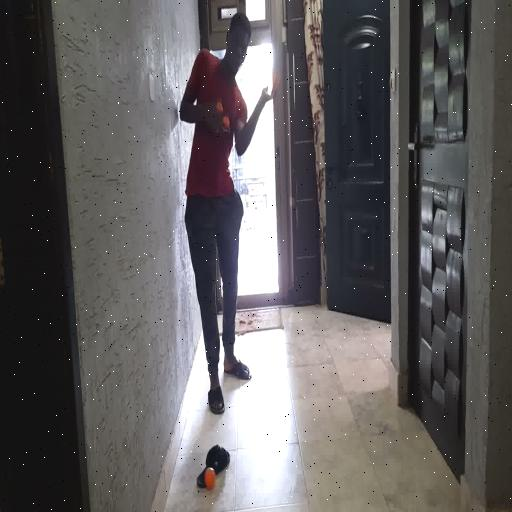plastic-ball: (203, 463, 217, 492)
